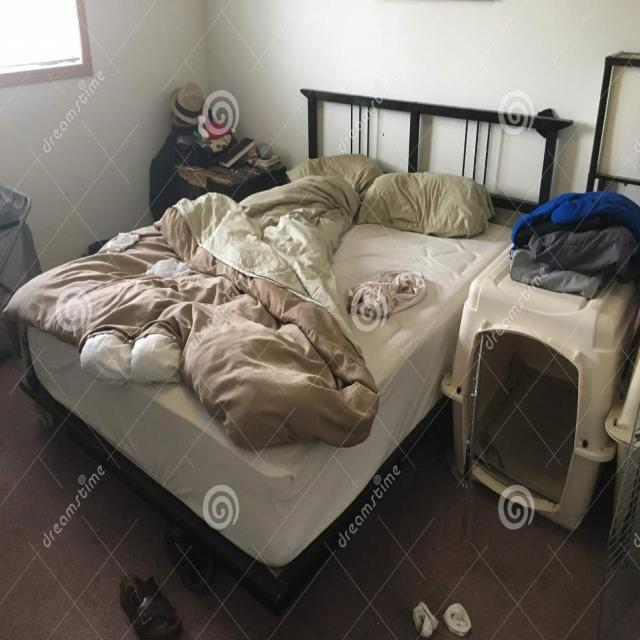bed: (14, 148, 486, 462)
